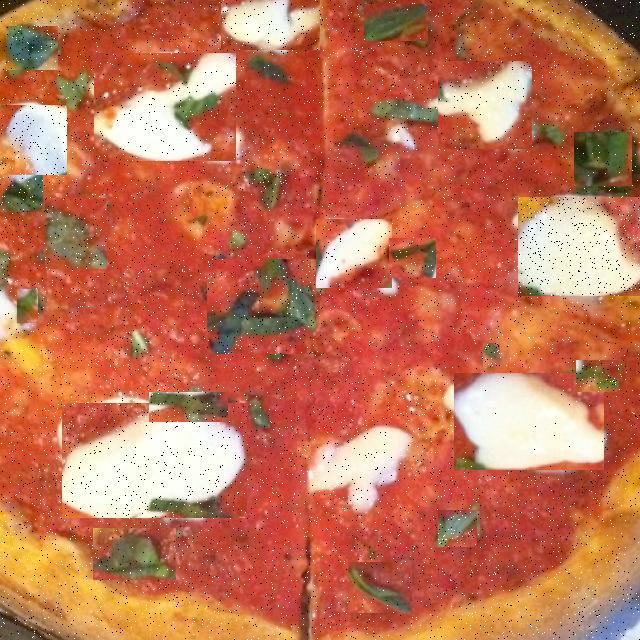Basil: (207, 260, 316, 356), (45, 198, 107, 269), (93, 528, 176, 580), (348, 562, 412, 613), (574, 132, 632, 186), (149, 392, 228, 422), (364, 4, 428, 41), (6, 26, 58, 70), (389, 238, 436, 278), (372, 99, 444, 123), (0, 175, 43, 212), (246, 57, 293, 88), (438, 510, 477, 547), (576, 360, 619, 392), (254, 172, 286, 210), (341, 132, 379, 162), (248, 396, 270, 430), (17, 289, 38, 323), (0, 247, 11, 292), (540, 126, 562, 147), (483, 343, 500, 367)
Cheese: (62, 403, 247, 518), (94, 53, 236, 161), (454, 374, 604, 472), (518, 197, 640, 296), (438, 61, 532, 149), (315, 429, 409, 506), (316, 219, 392, 288), (221, 0, 320, 50), (0, 105, 67, 175)
